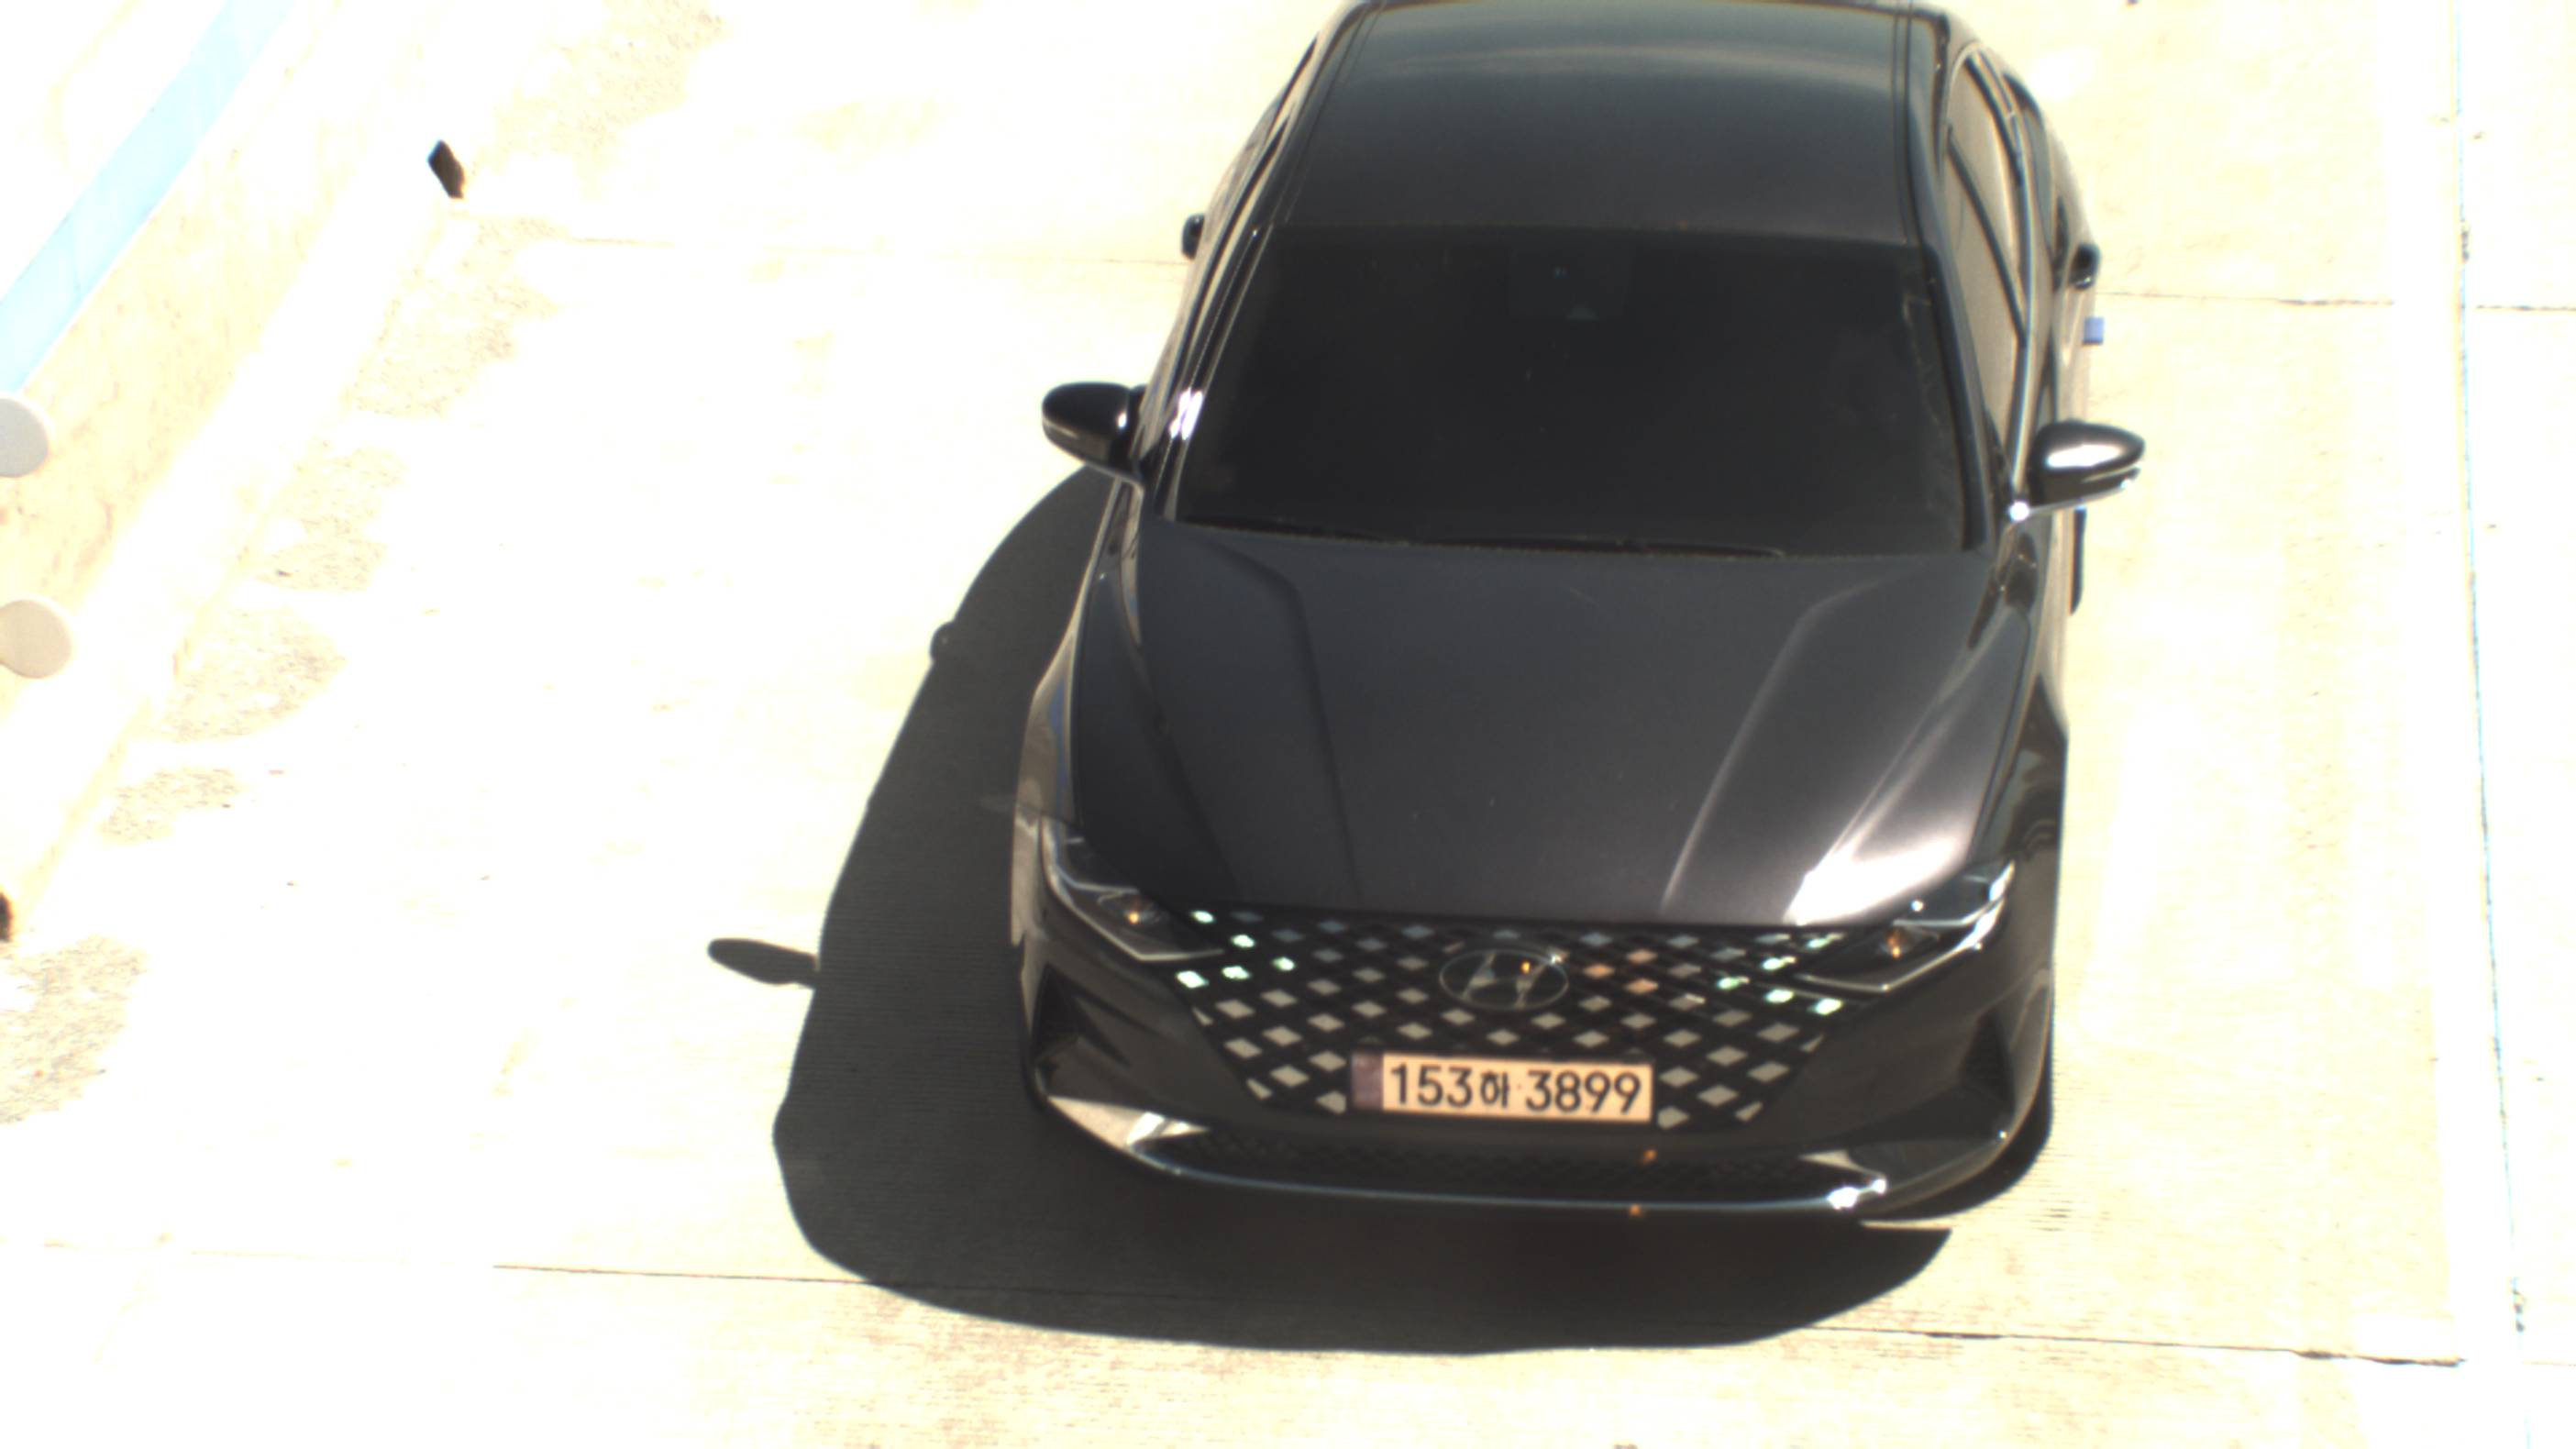car: (995, 3, 2158, 1244)
plate: (1345, 1046, 1658, 1133)
